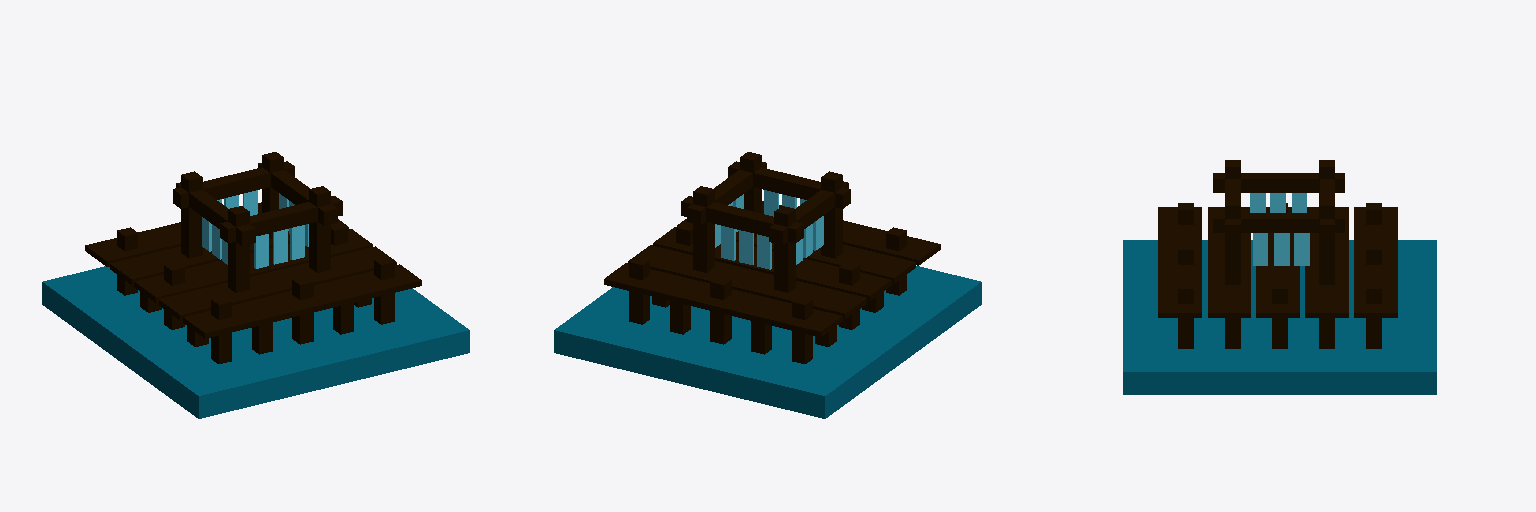
File: Fishery4.obj
3 renders of one model, left to right at view 1: azimuth 30°, elevation 25°; view 2: azimuth 150°, elevation 25°; view 3: azimuth 270°, elevation 25°, orthographic.
Parts seen in each view (by area): view 1: Tilebase114, Box749, Box750, Box751, Box752, Box753, Box758, Box759, Box755, Box756, Box757, Box760 (+9 smaller); view 2: Tilebase114, Box753, Box752, Box751, Box749, Box750, Box759, Box758, Box754, Box757, Box756, Box760 (+9 smaller); view 3: Tilebase114, Box749, Box753, Box750, Box752, Box751, Box760, Box761, Box754, Box755, Box734, Box737 (+5 smaller).
Boxes of the visible parts, x1,y1,x2,y2 form: Tilebase114: [42, 266, 469, 418]; Box749: [183, 264, 421, 338]; Box750: [159, 246, 396, 320]; Box751: [134, 229, 372, 302]; Box752: [110, 219, 348, 284]; Box753: [85, 202, 261, 266]; Box758: [220, 196, 342, 242]; Box759: [173, 161, 294, 208]; Box755: [309, 186, 330, 272]; Box756: [228, 206, 249, 292]; Box757: [181, 171, 202, 258]; Box760: [176, 182, 255, 245]; Tilebase114: [554, 266, 981, 418]; Box753: [604, 263, 842, 337]; Box752: [628, 245, 866, 318]; Box751: [653, 227, 891, 300]; Box749: [762, 201, 940, 265]; Box750: [677, 219, 915, 283]; Box759: [681, 196, 803, 243]; Box758: [728, 161, 850, 208]; Box754: [693, 186, 714, 272]; Box757: [774, 206, 795, 292]; Box756: [821, 171, 842, 258]; Box760: [769, 181, 848, 244]; Tilebase114: [1123, 240, 1436, 394]; Box749: [1158, 207, 1201, 317]; Box753: [1354, 207, 1397, 317]; Box750: [1208, 207, 1250, 317]; Box752: [1305, 207, 1348, 317]; Box751: [1256, 207, 1299, 317]; Box760: [1213, 173, 1344, 192]; Box761: [1213, 213, 1344, 232]; Box754: [1319, 200, 1334, 284]; Box755: [1225, 200, 1240, 284]; Box734: [1272, 283, 1287, 348]; Box737: [1366, 283, 1381, 348].
Size of the model in its own units: 10 by 5.13 by 10.